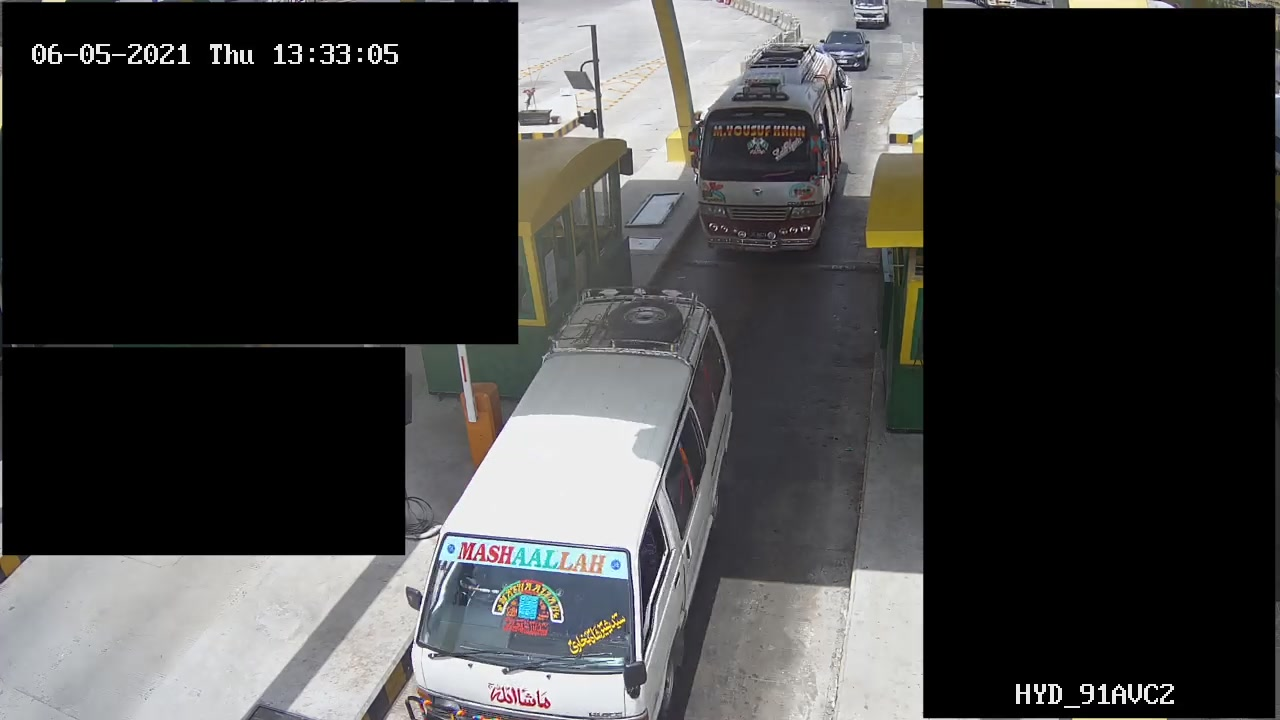F4: (698, 47, 843, 264)
